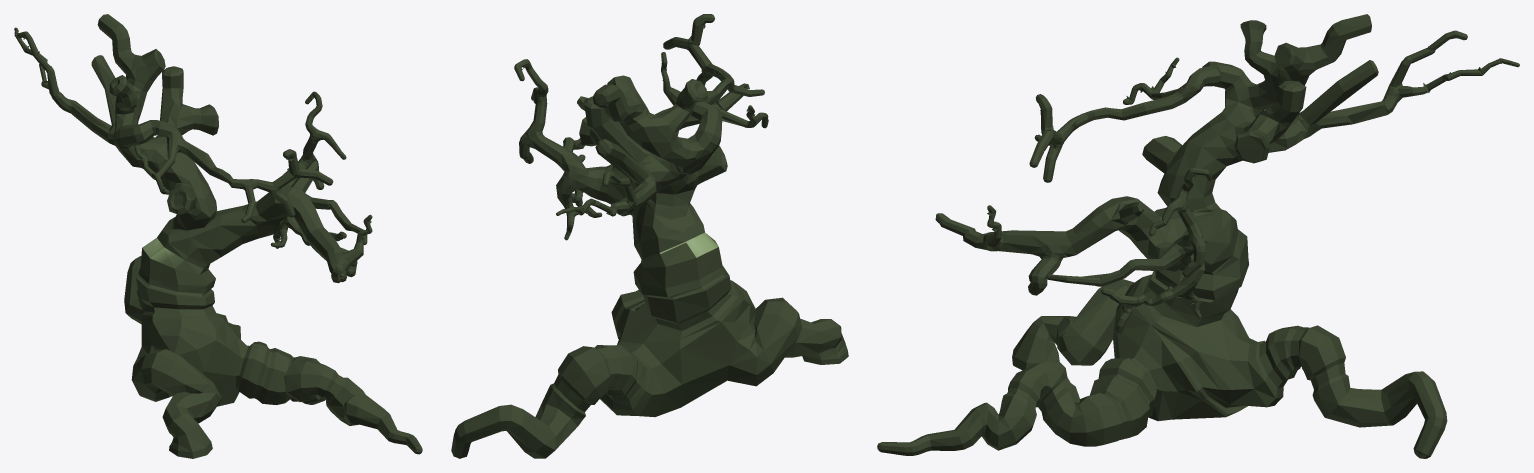
File: EA_Swamp_tree5.glb
3 views of the same model, side by side, from view 1: azimuth 30°, elevation 25°; view 2: azimuth 150°, elevation 25°; view 3: azimuth 270°, elevation 25° (orthographic). The views are drawn at different scales.
Parts seen in each view (by area): view 1: EA_Swamp_tree5; view 2: EA_Swamp_tree5; view 3: EA_Swamp_tree5.
Part boxes in pixels (bbox=[...]): EA_Swamp_tree5: bbox=[14, 14, 422, 458]; EA_Swamp_tree5: bbox=[451, 14, 848, 458]; EA_Swamp_tree5: bbox=[877, 14, 1519, 458].
Bounding box in the file's own units: 6.89 × 9.68 × 14.57.
Materials: 1 (1 with a texture image).
